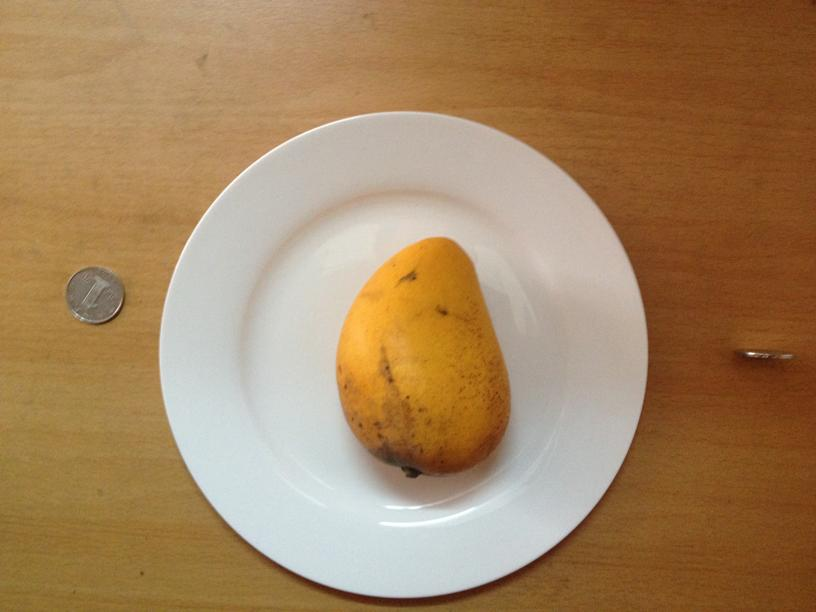coin: (60, 264, 126, 325)
mango: (335, 234, 512, 477)
